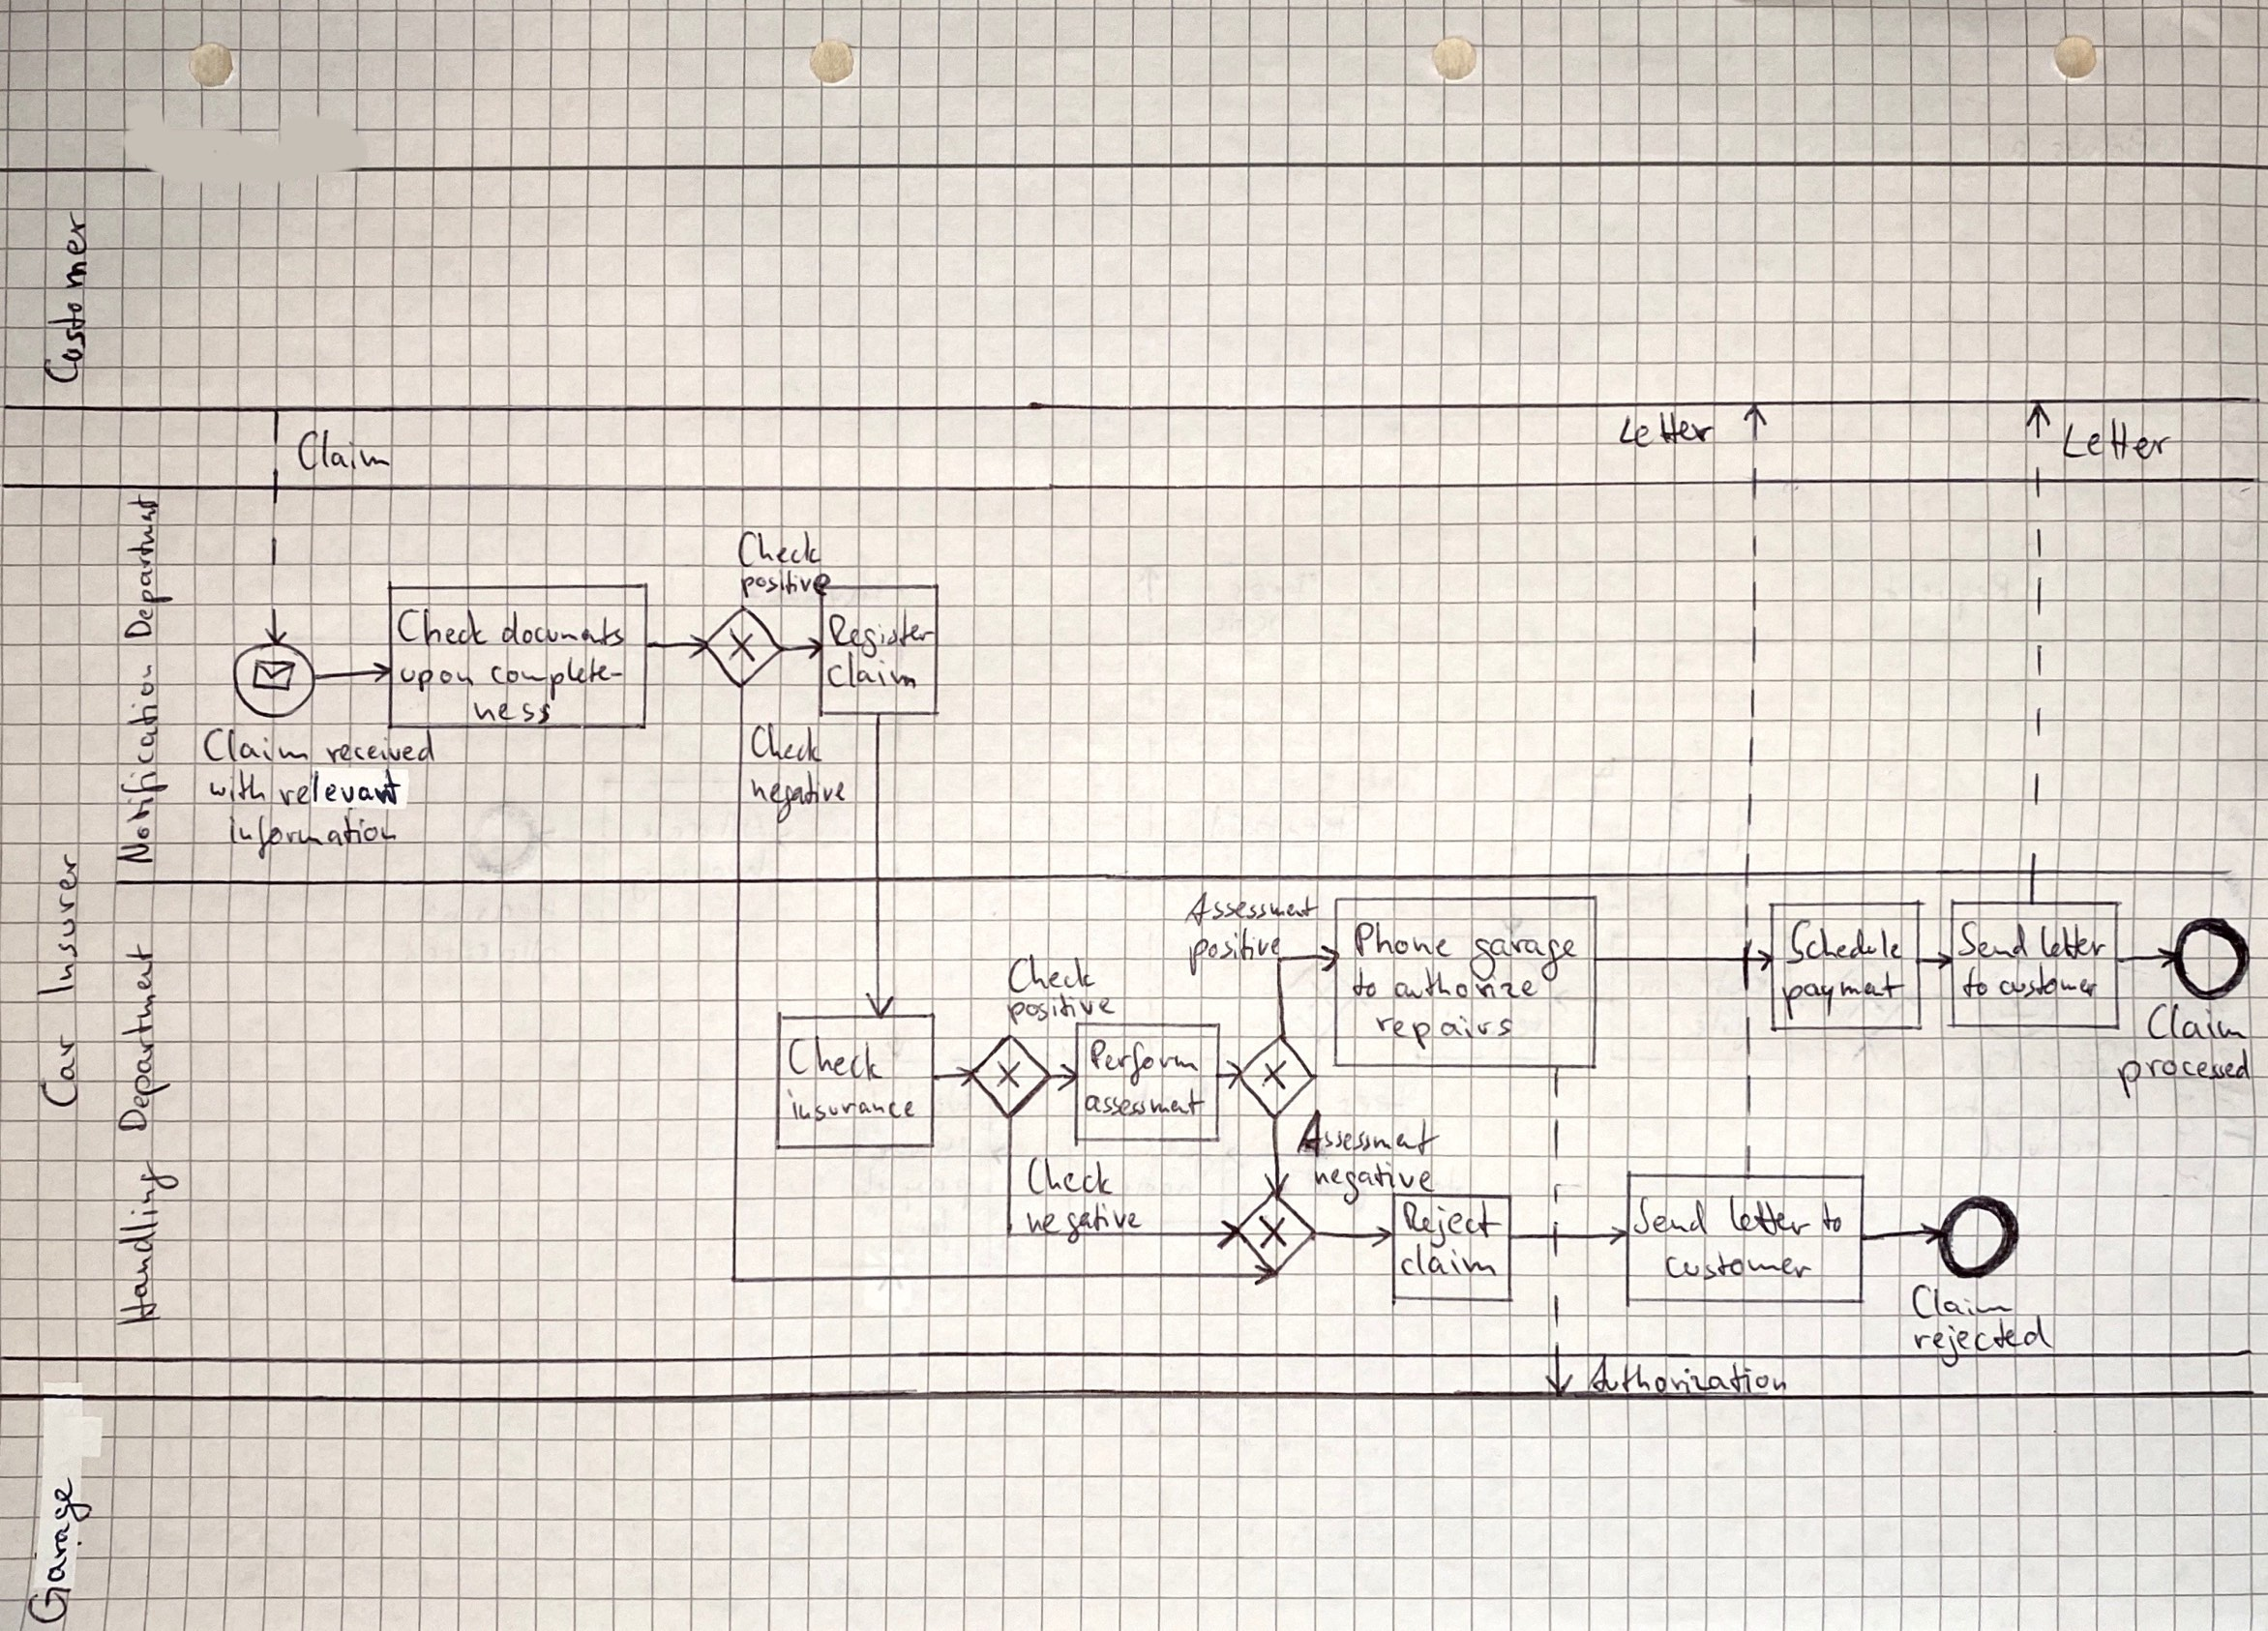Assessment: (1289, 1104, 1447, 1162), (1178, 888, 1324, 932)
Authorization: (1579, 1347, 1794, 1406)
Car: (33, 1029, 85, 1113)
Check: (782, 1029, 891, 1089), (1000, 948, 1102, 999), (1021, 1150, 1118, 1203), (394, 602, 495, 652), (745, 715, 829, 770), (734, 525, 828, 572)
Claim: (2141, 995, 2256, 1046), (291, 424, 400, 477), (199, 722, 317, 770), (1905, 1279, 2021, 1325)
Customer: (37, 204, 95, 389)
Department: (111, 937, 180, 1140), (116, 490, 180, 645)
Garage: (21, 1471, 99, 1629)
Handling: (107, 1152, 187, 1333)
Insurer: (28, 849, 86, 1004)
Letter: (2055, 410, 2178, 469), (1608, 410, 1727, 454)
Notification: (109, 661, 174, 870)
Perform: (1086, 1034, 1206, 1092)
Phone: (1347, 918, 1460, 965)
Register: (824, 602, 939, 664)
Reject: (1396, 1198, 1509, 1254)
Schedule: (1778, 912, 1909, 970)
Send: (1627, 1191, 1715, 1245), (1951, 916, 2036, 965)
assessment: (1078, 1083, 1210, 1124)
authorize: (1388, 962, 1546, 1006)
claim: (1393, 1236, 1504, 1284), (822, 646, 923, 694)
complete-: (484, 652, 632, 706)
customer: (1659, 1245, 1819, 1286), (1993, 958, 2102, 1004)
documents: (495, 606, 632, 652)
garage: (1463, 932, 1585, 988)
information: (222, 810, 403, 867)
insurance: (780, 1083, 921, 1129)
letter: (1724, 1191, 1815, 1244), (2032, 919, 2111, 965)
negative: (1307, 1154, 1442, 1212), (743, 764, 854, 831), (1020, 1196, 1148, 1251)
ness: (468, 696, 556, 731)
payment: (1777, 965, 1912, 1025)
positive: (1182, 921, 1285, 981), (1002, 988, 1122, 1030), (734, 565, 836, 604)
processed: (2110, 1043, 2256, 1104)
received: (320, 724, 440, 770)
rejected: (1905, 1309, 2060, 1376)
relevant: (273, 763, 409, 814)
repairs: (1368, 1009, 1521, 1057)
to: (1958, 962, 1993, 1006), (1347, 962, 1382, 1006), (1815, 1194, 1847, 1240)
upon: (394, 661, 479, 699)
with: (202, 766, 271, 808)
